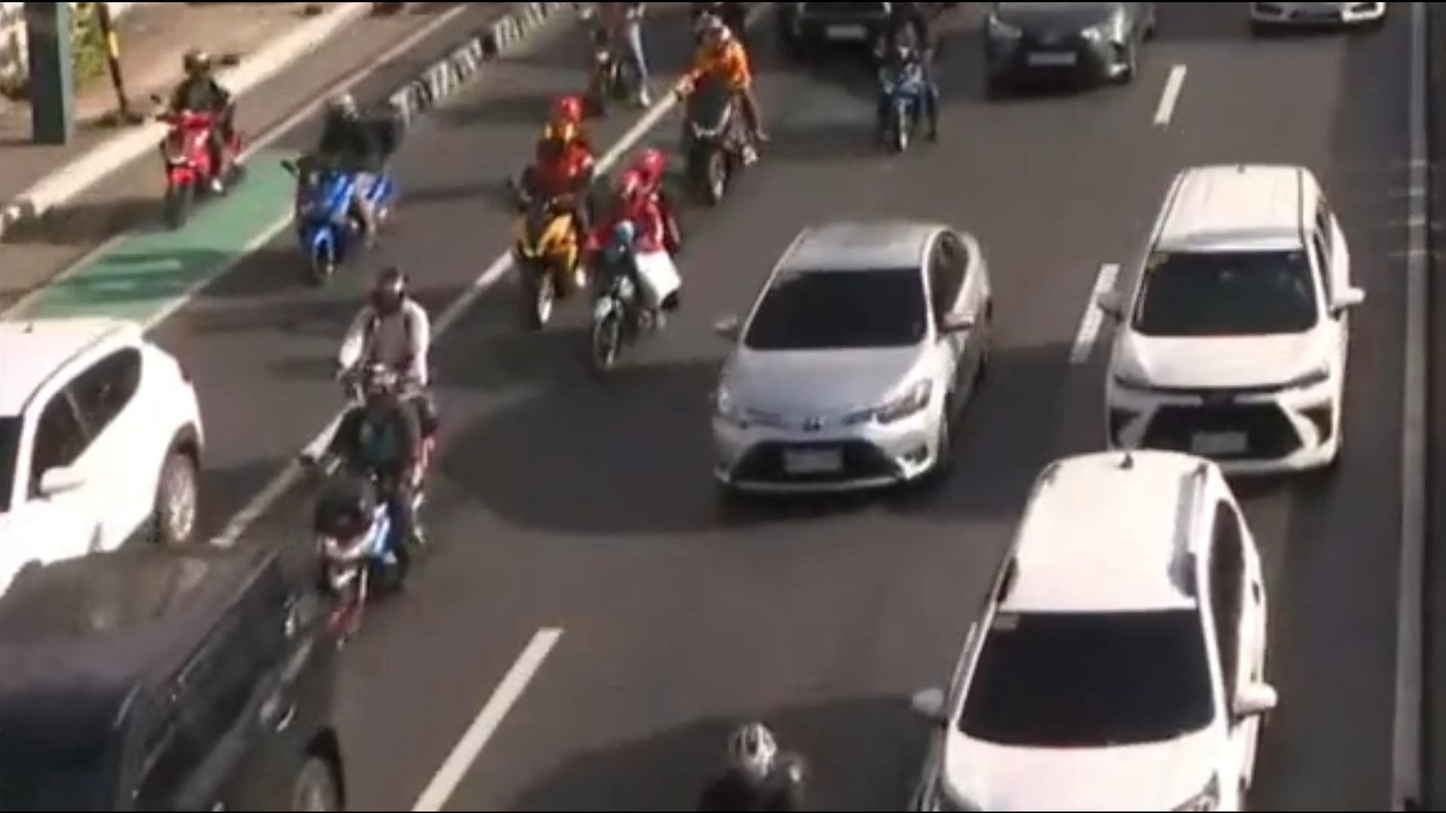Motorcycle: (279, 389, 484, 631), (310, 266, 479, 493), (498, 93, 635, 295), (571, 167, 688, 381), (275, 72, 418, 247), (138, 38, 253, 251), (658, 8, 780, 208), (855, 0, 953, 167), (554, 0, 674, 119)
SUV: (938, 463, 1286, 813), (1078, 153, 1373, 502), (0, 520, 343, 813), (0, 279, 224, 593)
Sedan: (691, 204, 1015, 512)
